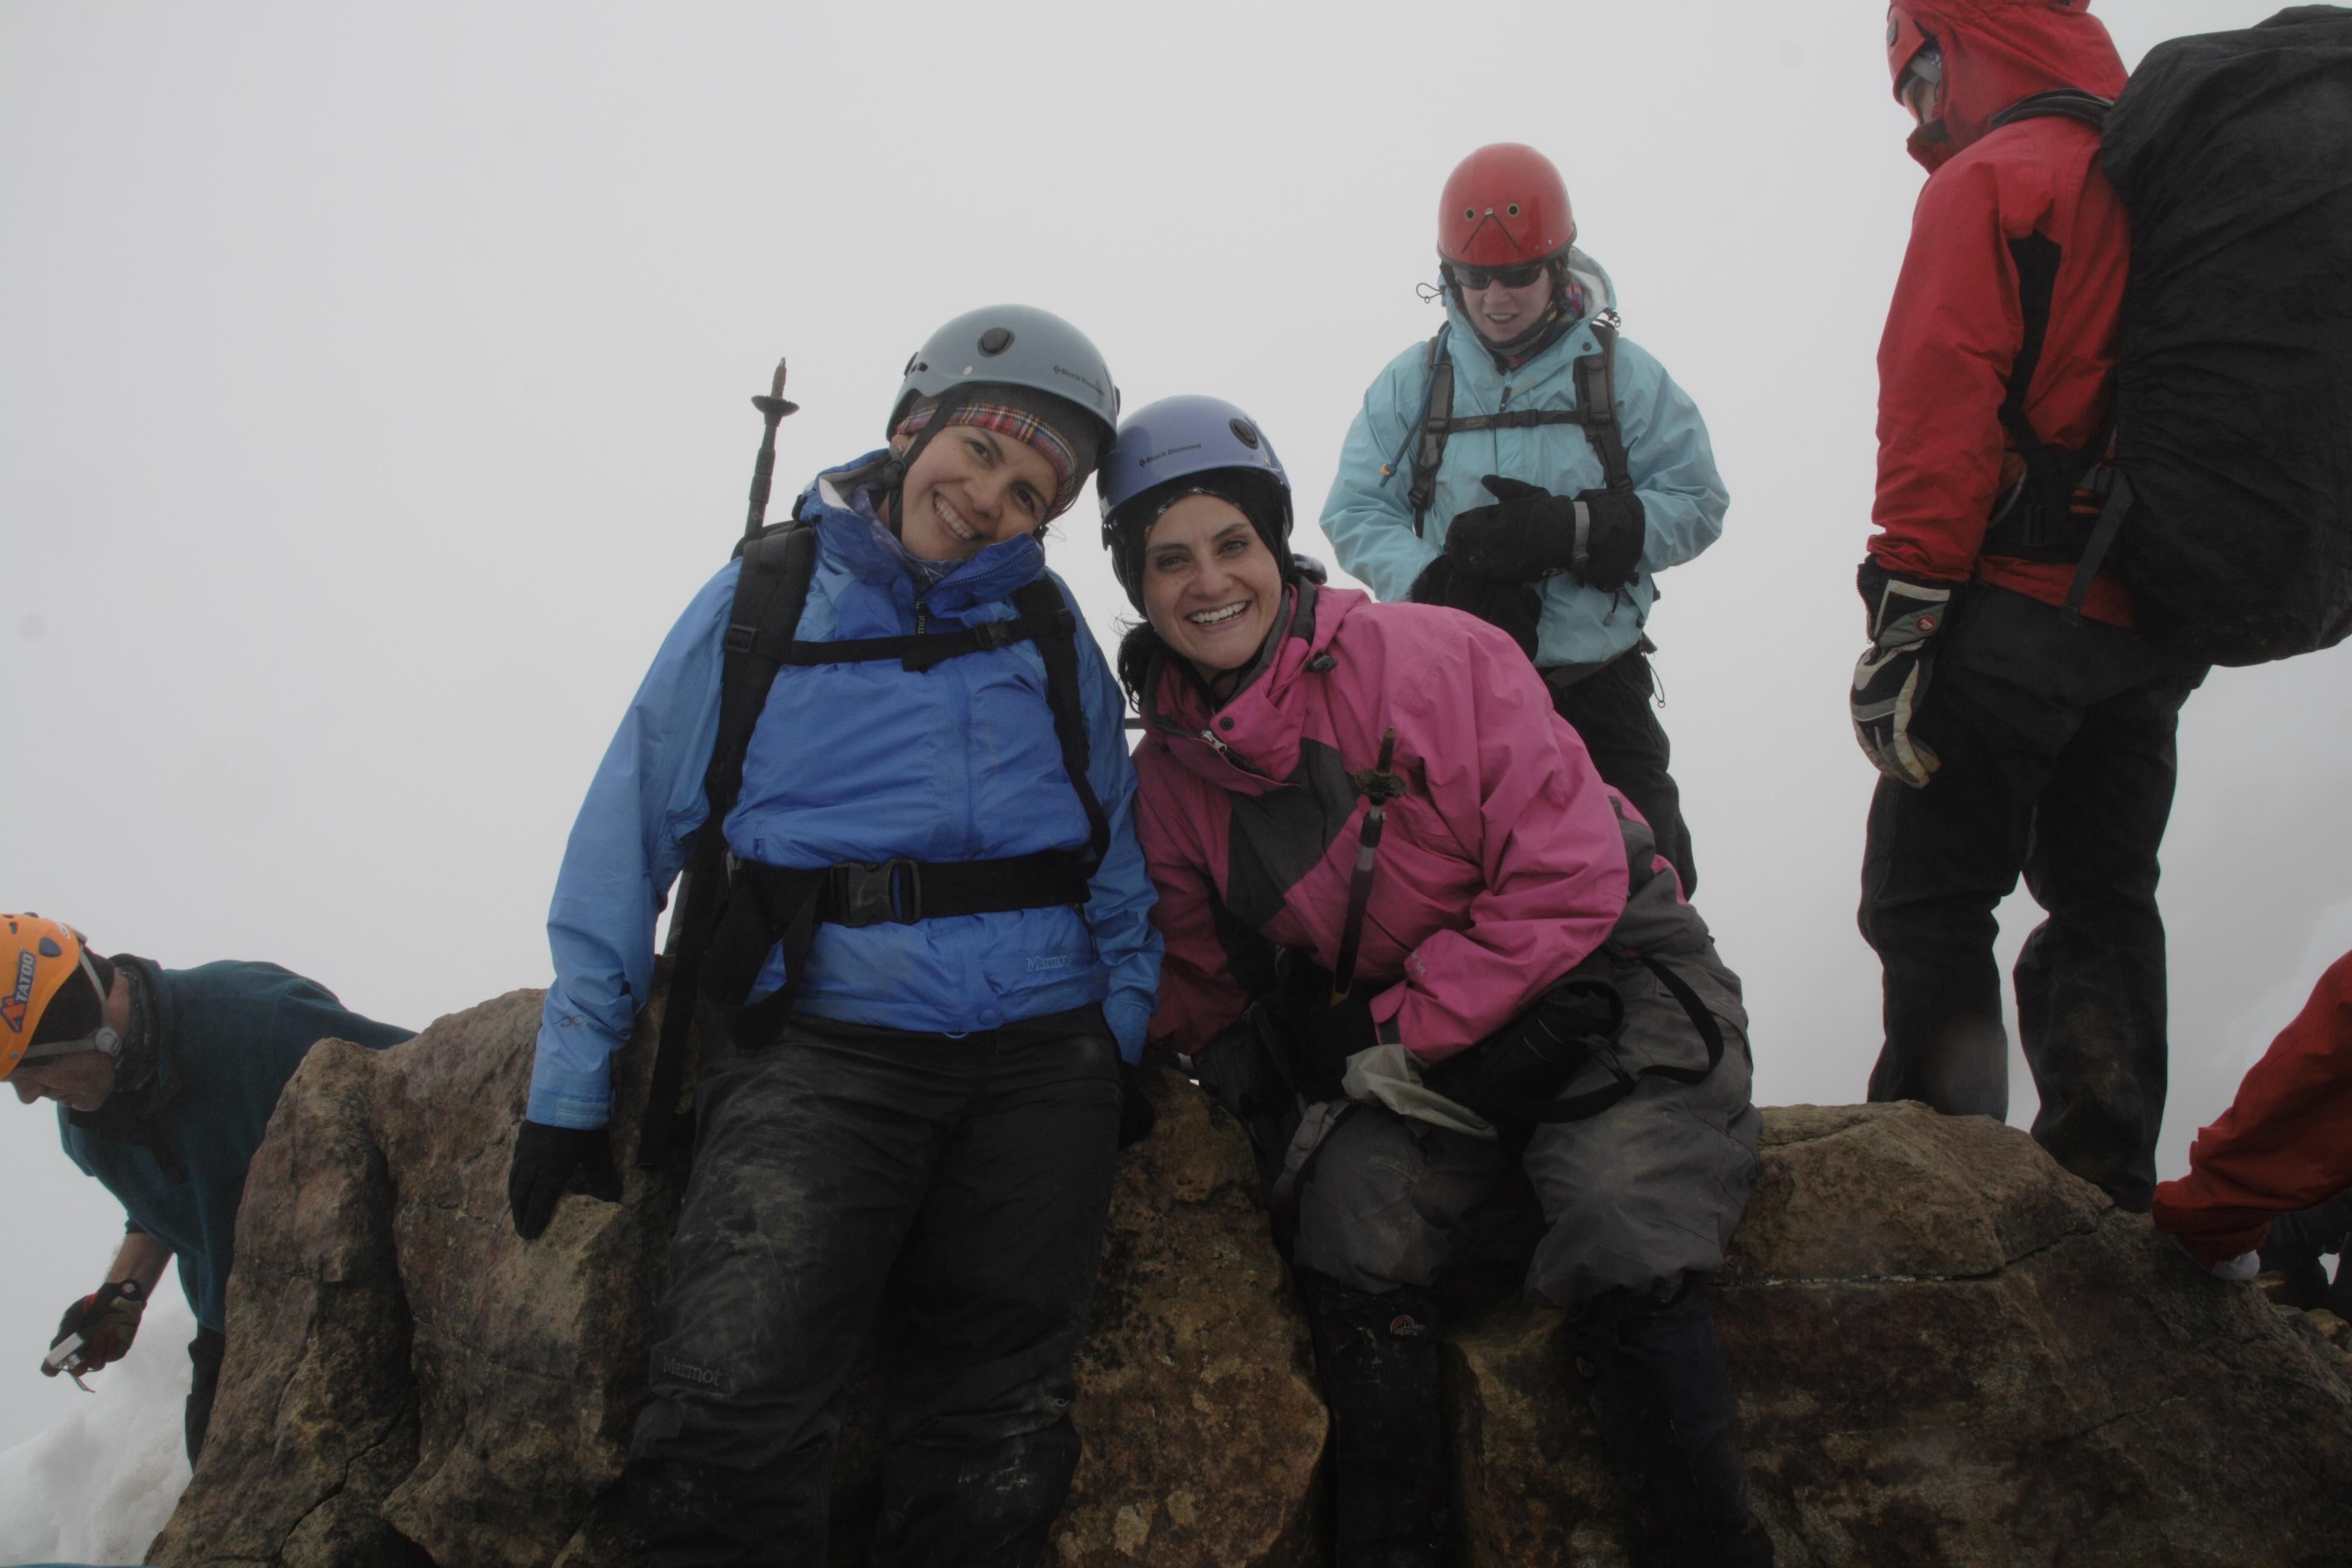helmet: (877, 292, 1123, 472), (1090, 385, 1300, 563), (1423, 135, 1586, 276), (1878, 0, 2091, 100), (0, 892, 96, 1095)
